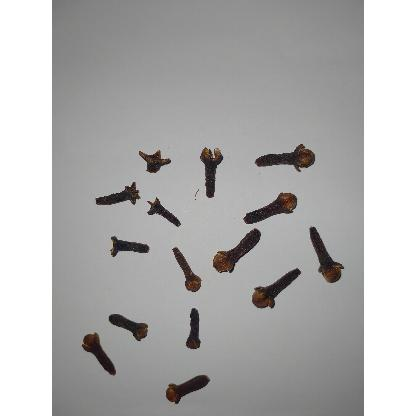baik: (212, 227, 262, 275), (308, 227, 344, 285), (252, 269, 302, 310), (243, 193, 298, 226), (255, 145, 316, 172)
buruk: (199, 147, 223, 199), (95, 183, 141, 208), (147, 197, 180, 227), (111, 237, 149, 258), (139, 151, 170, 175)
sedang: (82, 334, 116, 377), (173, 248, 203, 294), (165, 376, 210, 406), (108, 314, 148, 343), (185, 309, 202, 350)
